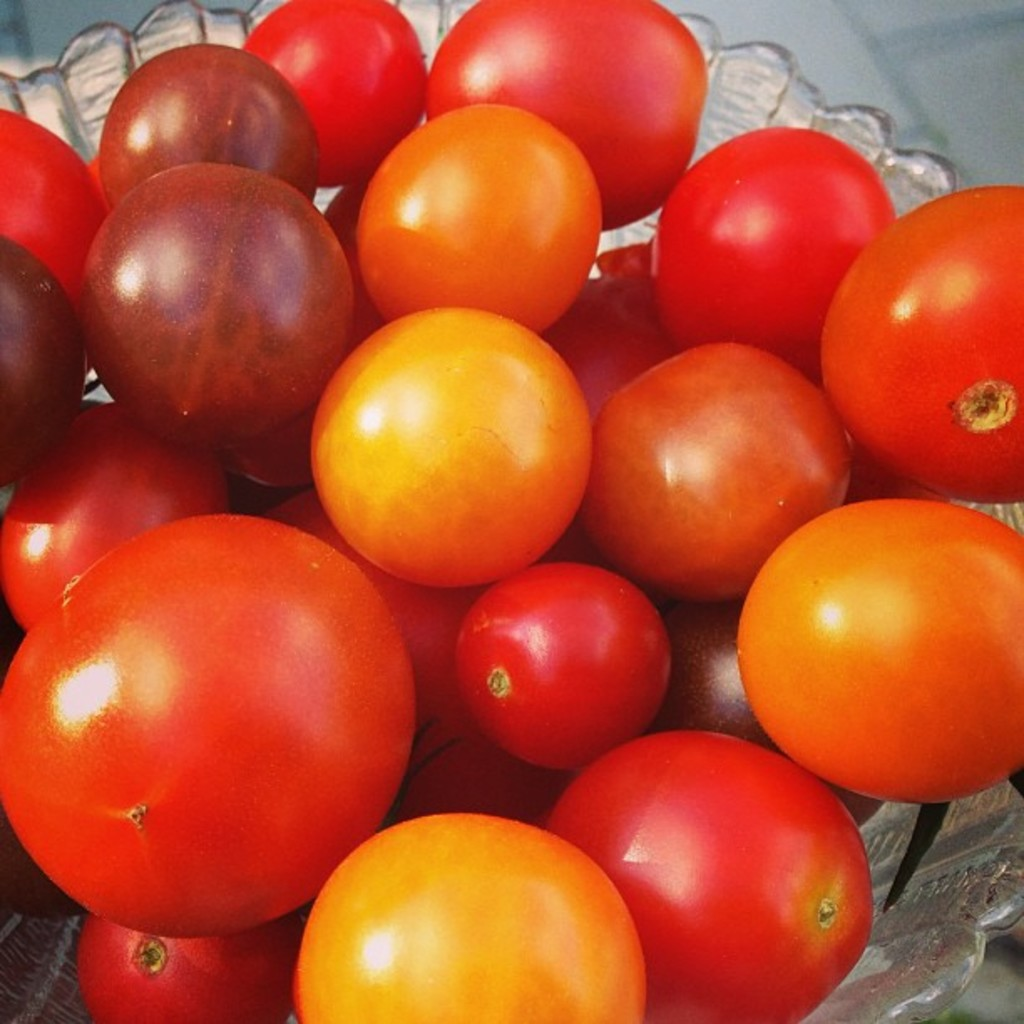Tomato: (0, 0, 1024, 1023)
